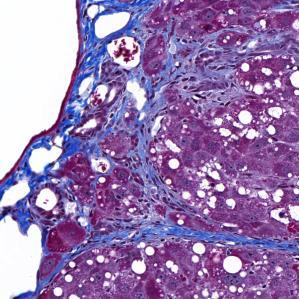fibrosis: (73, 8, 201, 120), (14, 143, 89, 226), (123, 155, 192, 241)
